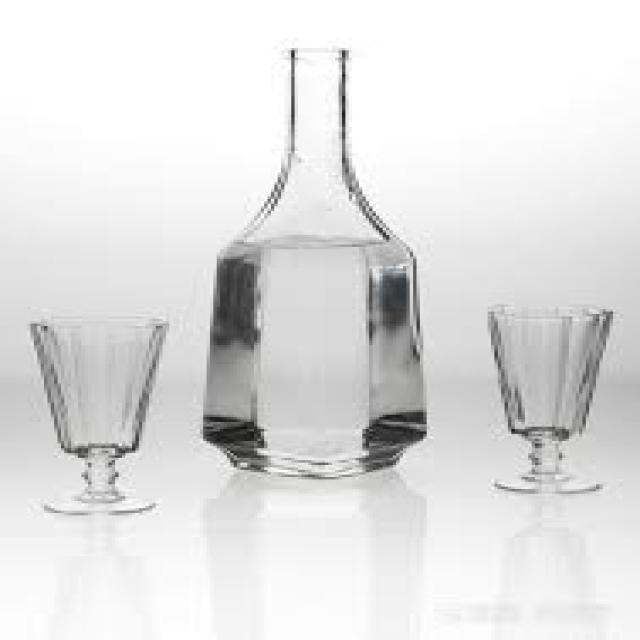Glass: (200, 48, 427, 475), (30, 313, 170, 518), (478, 300, 614, 494)
